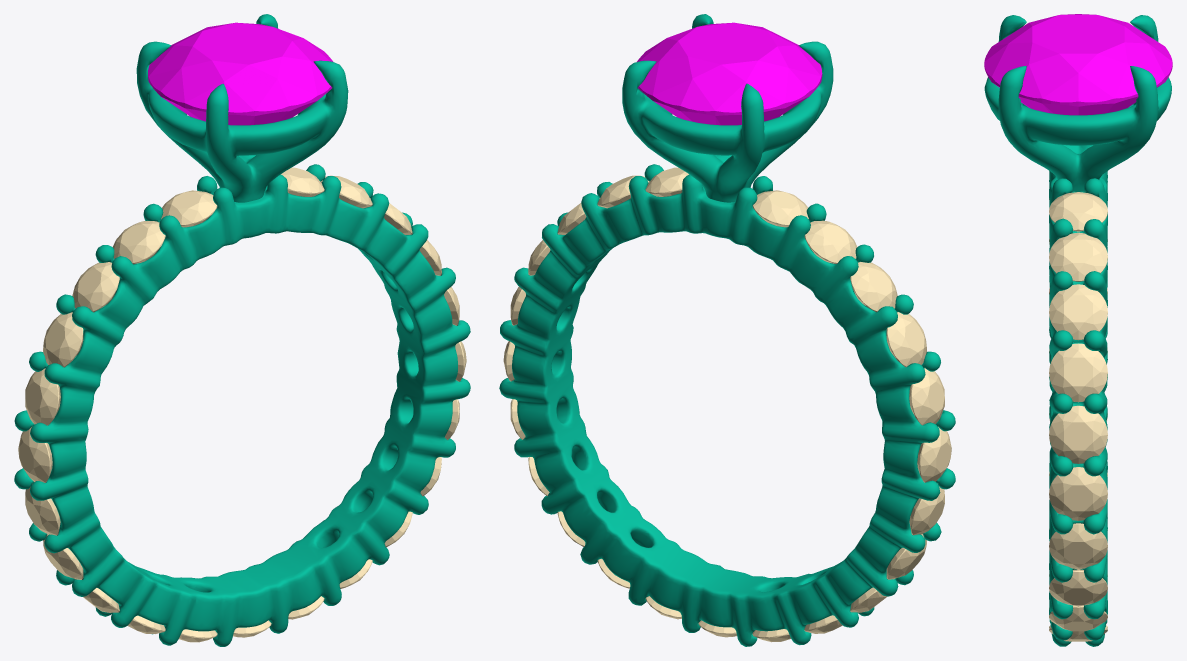
The model's file is BE1D2414_RD_200ct_RENDER.glb.
The picture shows the model from 3 angles, left to right: view 1: azimuth 30°, elevation 25°; view 2: azimuth 150°, elevation 25°; view 3: azimuth 270°, elevation 25°; orthographic projection.
Parts seen in each view (by area): view 1: Metal 01, CS_Diamond_Round, Diamond_Round_Gem_SH.014, Diamond_Round_Gem_SH.015, Diamond_Round_Gem_SH.013, Diamond_Round_Gem_SH.016, Diamond_Round_Gem_SH.012, Diamond_Round_Gem_SH.017, Diamond_Round_Gem_SH.018, Diamond_Round_Gem_SH.011, Diamond_Round_Gem_SH.019, Diamond_Round_Gem_SH.010; view 2: Metal 01, CS_Diamond_Round, Diamond_Round_Gem_SH.014, Diamond_Round_Gem_SH.015, Diamond_Round_Gem_SH.013, Diamond_Round_Gem_SH.016, Diamond_Round_Gem_SH.012, Diamond_Round_Gem_SH.017, Diamond_Round_Gem_SH.018, Diamond_Round_Gem_SH.011, Diamond_Round_Gem_SH.019, Diamond_Round_Gem_SH.010; view 3: Metal 01, CS_Diamond_Round, Diamond_Round_Gem_SH.008, Diamond_Round_Gem_SH.007, Diamond_Round_Gem_SH.009, Diamond_Round_Gem_SH.006, Diamond_Round_Gem_SH.010, Diamond_Round_Gem_SH.005, Diamond_Round_Gem_SH.011, Diamond_Round_Gem_SH.004, Diamond_Round_Gem_SH.003.
Boxes of the visible parts, x1,y1,x2,y2 form: Metal 01: (14,14,470,646); CS_Diamond_Round: (148,22,333,125); Diamond_Round_Gem_SH.014: (72,262,119,312); Diamond_Round_Gem_SH.015: (43,312,83,367); Diamond_Round_Gem_SH.013: (113,221,165,264); Diamond_Round_Gem_SH.016: (25,368,60,425); Diamond_Round_Gem_SH.012: (161,190,217,227); Diamond_Round_Gem_SH.017: (18,427,52,482); Diamond_Round_Gem_SH.018: (25,484,60,535); Diamond_Round_Gem_SH.011: (281,167,324,196); Diamond_Round_Gem_SH.019: (43,534,83,579); Diamond_Round_Gem_SH.010: (321,175,372,208); Metal 01: (499,14,955,646); CS_Diamond_Round: (637,22,822,125); Diamond_Round_Gem_SH.014: (850,262,897,312); Diamond_Round_Gem_SH.015: (886,312,926,367); Diamond_Round_Gem_SH.013: (804,220,857,263); Diamond_Round_Gem_SH.016: (909,368,944,425); Diamond_Round_Gem_SH.012: (752,190,808,227); Diamond_Round_Gem_SH.017: (917,427,951,482); Diamond_Round_Gem_SH.018: (909,486,944,535); Diamond_Round_Gem_SH.011: (645,167,688,196); Diamond_Round_Gem_SH.019: (886,534,926,579); Diamond_Round_Gem_SH.010: (597,175,649,208); Metal 01: (984,15,1171,646); CS_Diamond_Round: (984,14,1172,115); Diamond_Round_Gem_SH.008: (1049,343,1107,402); Diamond_Round_Gem_SH.007: (1049,405,1107,463); Diamond_Round_Gem_SH.009: (1049,284,1107,340); Diamond_Round_Gem_SH.006: (1049,467,1107,520); Diamond_Round_Gem_SH.010: (1049,232,1107,281); Diamond_Round_Gem_SH.005: (1049,523,1107,569); Diamond_Round_Gem_SH.011: (1049,192,1107,231); Diamond_Round_Gem_SH.004: (1049,569,1107,606); Diamond_Round_Gem_SH.003: (1049,605,1107,631).
Size of the model in its own units: 21.39 by 27.54 by 8.
